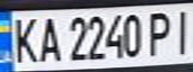0: (121, 10, 148, 58)
2: (84, 11, 109, 62), (63, 11, 87, 63)
4: (106, 10, 127, 61)
A: (33, 13, 63, 64)
I: (169, 6, 193, 55)
K: (6, 13, 42, 64)
P: (145, 8, 175, 57)
